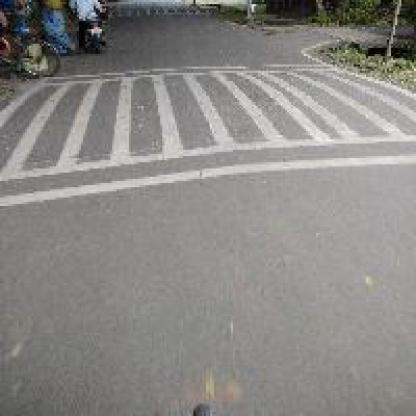Speed Bump: (0, 60, 414, 204)
